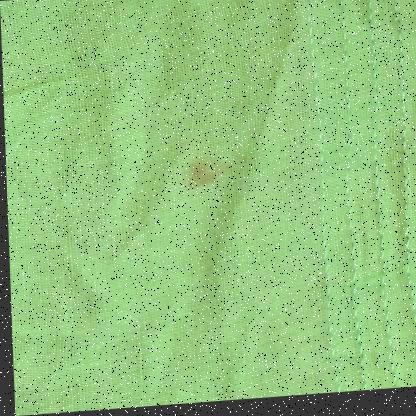spot: (164, 154, 234, 196)
